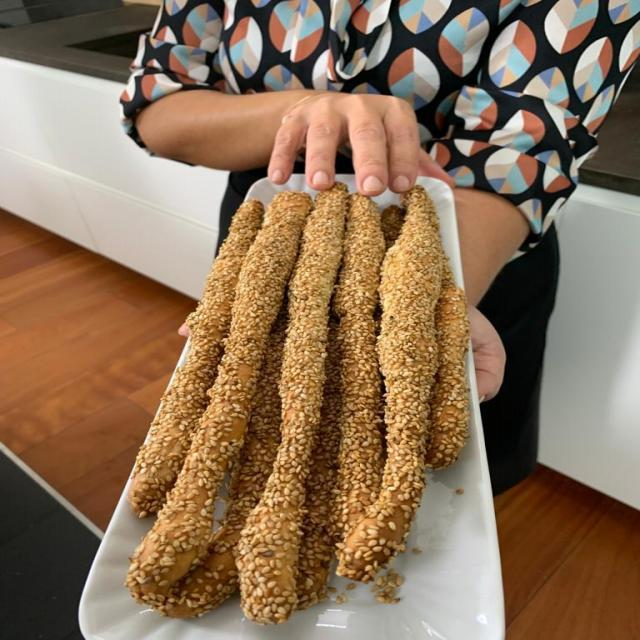Grissini: (125, 192, 474, 620)
